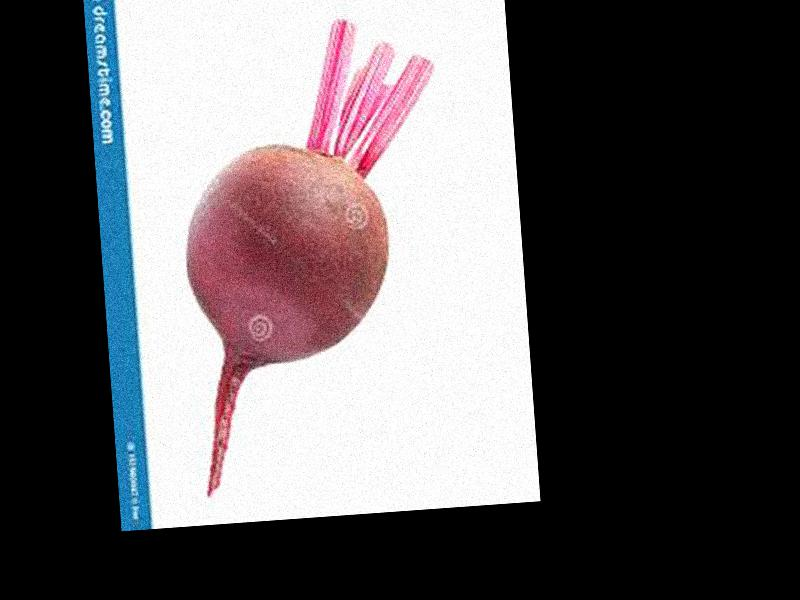Beet: (174, 15, 460, 492)
